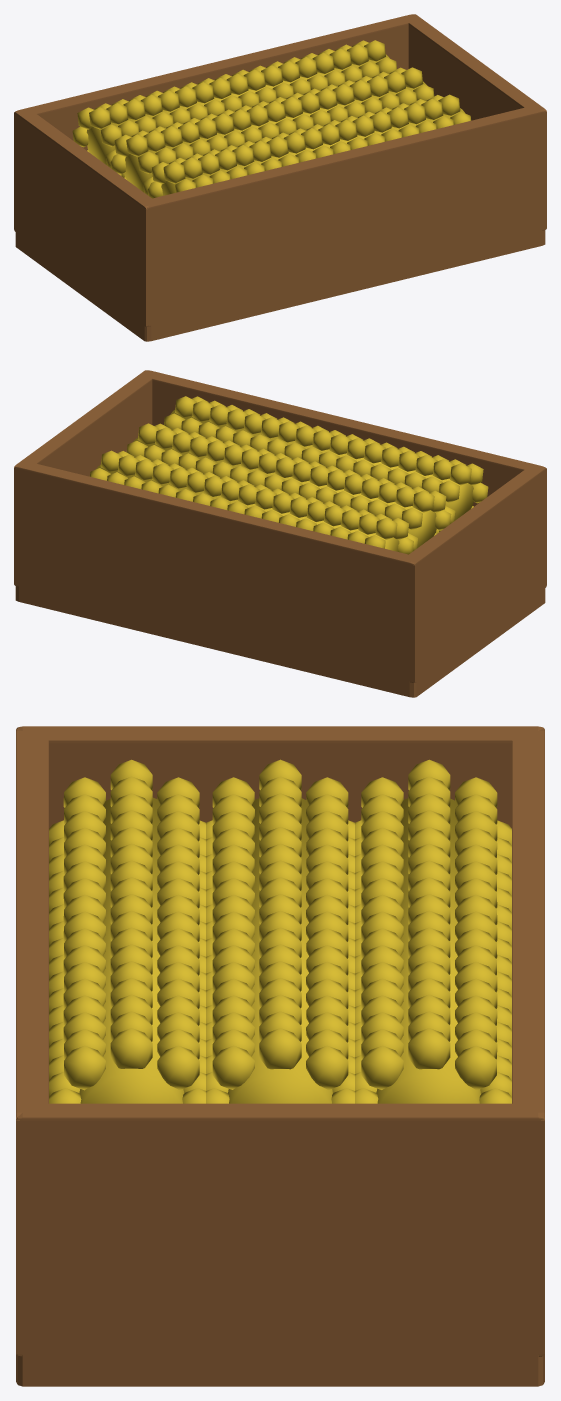
The picture shows the model from 3 angles, top to bottom: view 1: azimuth 30°, elevation 25°; view 2: azimuth 150°, elevation 25°; view 3: azimuth 270°, elevation 25°; orthographic projection. The views are drawn at different scales.
Visible parts, largest first — view 1: TI047 / crate side, TI047 / crate end, TI047 / crate floor, TI047 / crate side.001, TI047 / crate end.001, TI047 / corn core.002, TI047 / corn core.001, TI047 / corn core; view 2: TI047 / crate side.001, TI047 / crate end, TI047 / crate floor, TI047 / crate side, TI047 / crate end.001, TI047 / corn core, TI047 / corn core.001, TI047 / corn core.002; view 3: TI047 / crate end.001, TI047 / crate end, TI047 / crate floor, TI047 / crate side.001, TI047 / crate side, TI047 / corn core.001, TI047 / corn core, TI047 / corn core.002, TI047 / individual corn kernel.266, TI047 / individual corn kernel.402, TI047 / individual corn kernel.130, TI047 / individual corn kernel.403 (+5 smaller).
Part boxes in pixels (x1,y1,x2,y2): TI047 / crate side: (144, 105, 546, 326); TI047 / crate end: (14, 111, 160, 326); TI047 / crate floor: (15, 219, 545, 341); TI047 / crate side.001: (14, 14, 417, 230); TI047 / crate end.001: (403, 14, 546, 231); TI047 / corn core.002: (86, 54, 389, 164); TI047 / corn core.001: (124, 81, 427, 192); TI047 / corn core: (161, 108, 465, 195); TI047 / crate side.001: (14, 461, 422, 682); TI047 / crate end: (400, 467, 546, 682); TI047 / crate floor: (15, 572, 545, 697); TI047 / crate side: (143, 370, 546, 586); TI047 / crate end.001: (14, 370, 157, 587); TI047 / corn core: (170, 410, 473, 520); TI047 / corn core.001: (133, 437, 436, 548); TI047 / corn core.002: (96, 465, 399, 551); TI047 / crate end.001: (16, 1103, 544, 1356); TI047 / crate end: (17, 726, 543, 828); TI047 / crate floor: (16, 1334, 544, 1386); TI047 / crate side.001: (512, 728, 544, 1354); TI047 / crate side: (16, 728, 48, 1354); TI047 / corn core.001: (228, 798, 332, 1103); TI047 / corn core: (79, 797, 184, 1103); TI047 / corn core.002: (376, 798, 480, 1103); TI047 / individual corn kernel.266: (259, 1028, 301, 1069); TI047 / individual corn kernel.402: (408, 1028, 450, 1069); TI047 / individual corn kernel.130: (110, 1028, 152, 1068); TI047 / individual corn kernel.403: (361, 1045, 403, 1089).
Size of the model in its own units: 2.8 by 0.9752 by 1.6.
